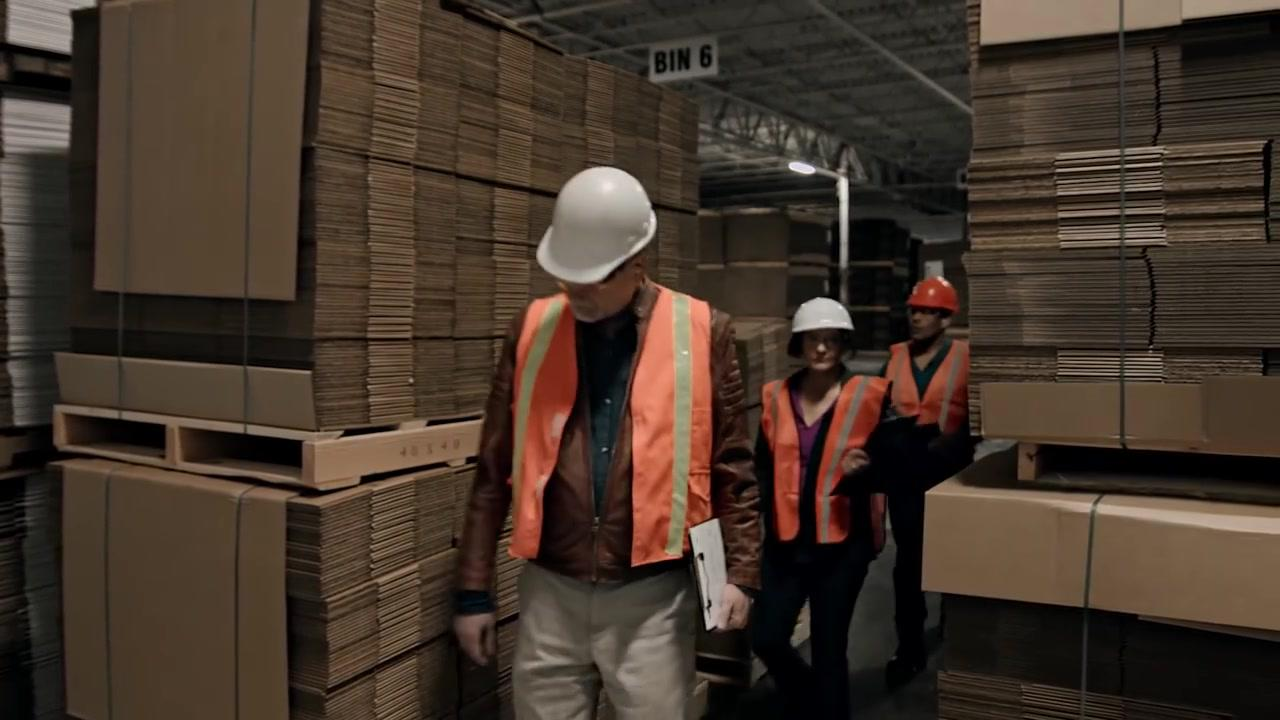Hi-Vis Jacket: (512, 290, 714, 577), (764, 372, 875, 557), (882, 339, 977, 457)
